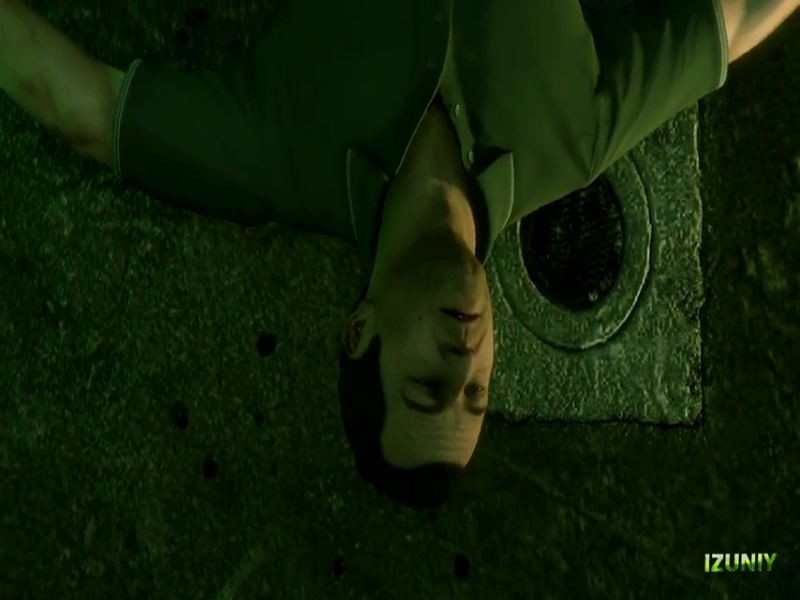human: (6, 0, 794, 543)
